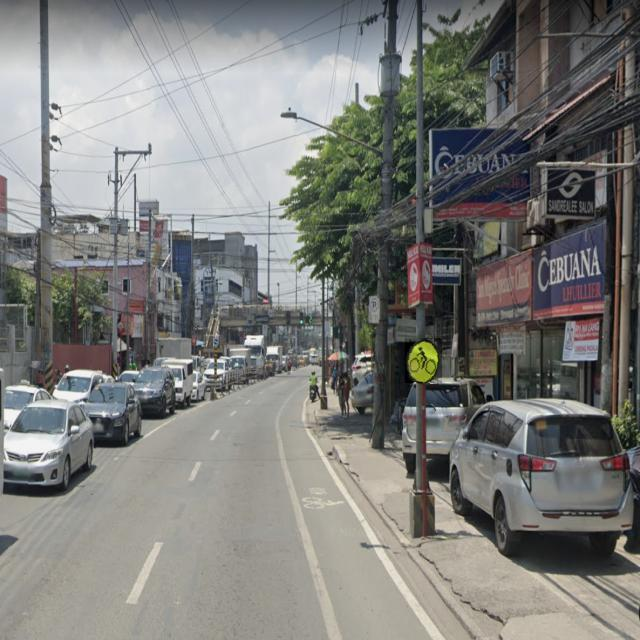bike lane: (405, 338, 442, 383)
